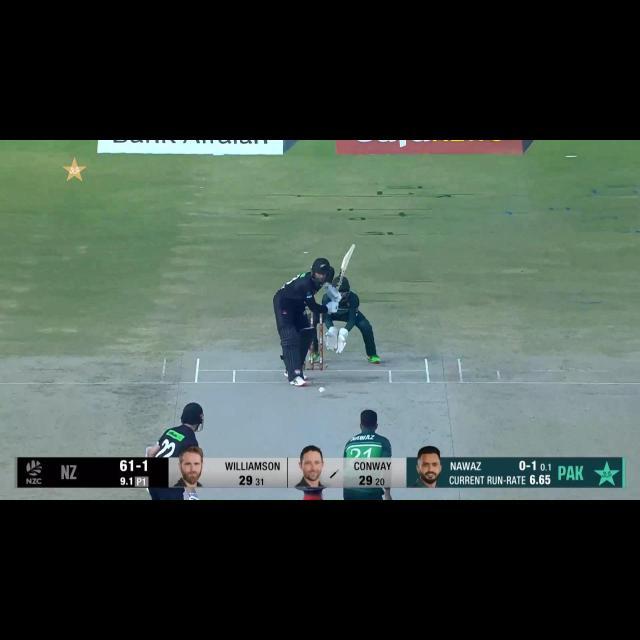bat: (326, 246, 359, 296)
toe: (342, 244, 359, 262)
